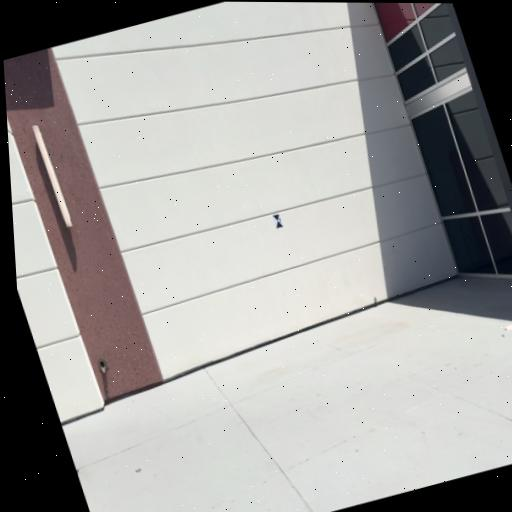target7: (272, 213, 284, 228)
